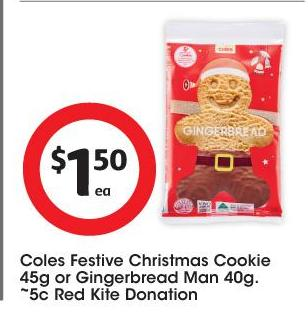description_block: (8, 247, 274, 305)
price_main: (22, 118, 151, 230)
product_image_block: (148, 10, 298, 233)
